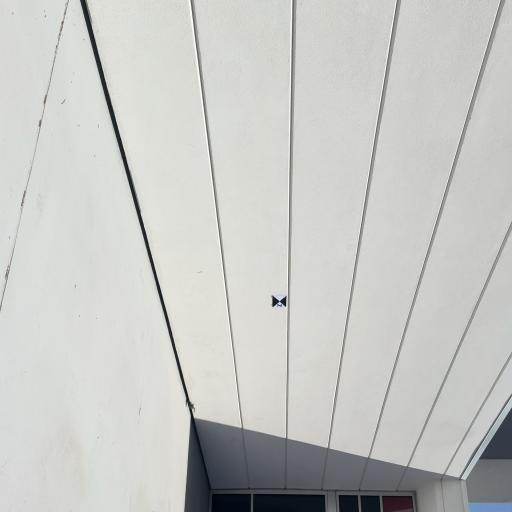target7: (273, 295, 286, 308)
